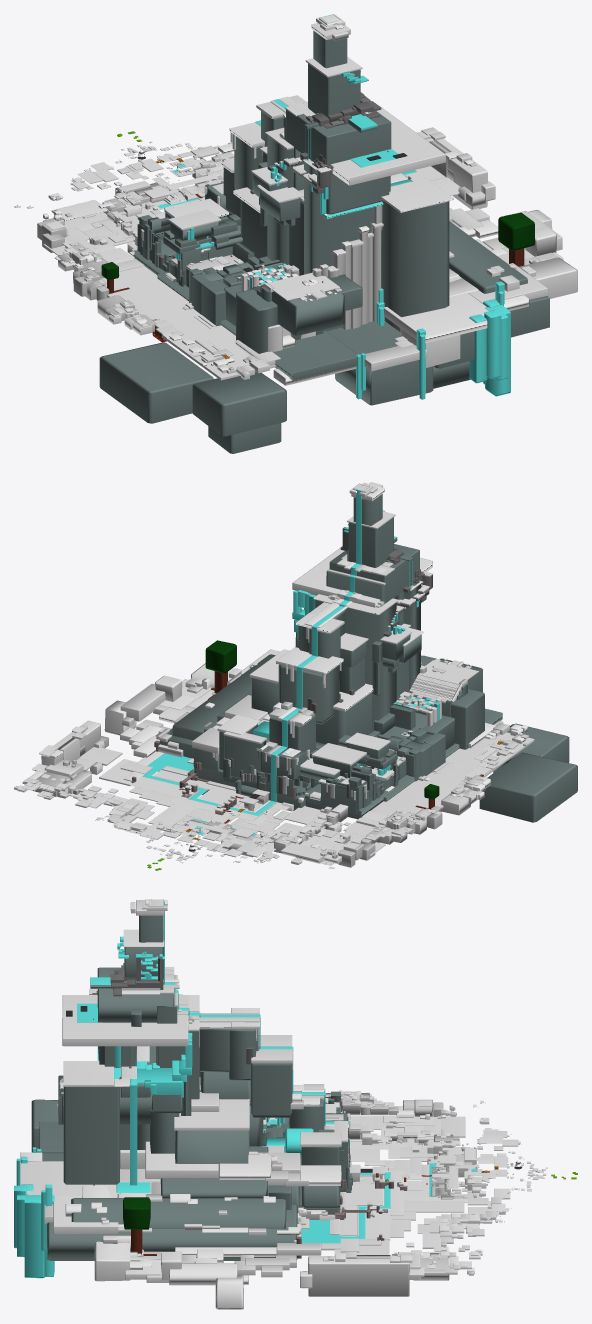
Rendered from Level7NoCollidersCombinedFinal2.fbx.
3 views of the same model, one above another, from view 1: azimuth 30°, elevation 25°; view 2: azimuth 150°, elevation 25°; view 3: azimuth 270°, elevation 25° (orthographic). The views are drawn at different scales.
Parts seen in each view (by area): view 1: polySurface732, polySurface1250, polySurface963, polySurface1788, polySurface205, polySurface47, polySurface1530, polySurface1782, polySurface765, polySurface2147, polySurface2268; view 2: polySurface732, polySurface963, polySurface510, polySurface1788, polySurface205, polySurface1530, polySurface765, polySurface2268, polySurface1782, polySurface2147, polySurface47, polySurface1250; view 3: polySurface732, polySurface963, polySurface510, polySurface1530, polySurface765, polySurface1250, polySurface1788, polySurface1782, polySurface2147, polySurface2268, polySurface47.
Part boxes in pixels (<box>): polySurface732: <box>221,14,453,385</box>; polySurface1250: <box>157,273,529,405</box>; polySurface963: <box>134,179,549,337</box>; polySurface1788: <box>42,211,275,380</box>; polySurface205: <box>96,262,233,423</box>; polySurface47: <box>192,352,286,453</box>; polySurface1530: <box>449,208,577,298</box>; polySurface1782: <box>14,162,167,240</box>; polySurface765: <box>415,127,495,209</box>; polySurface2147: <box>126,151,230,209</box>; polySurface2268: <box>110,131,234,174</box>; polySurface732: <box>249,482,503,761</box>; polySurface963: <box>154,649,445,819</box>; polySurface510: <box>99,489,361,832</box>; polySurface1788: <box>274,732,534,860</box>; polySurface205: <box>415,744,577,822</box>; polySurface1530: <box>104,640,236,757</box>; polySurface765: <box>14,720,122,799</box>; polySurface2268: <box>57,771,228,870</box>; polySurface1782: <box>224,826,364,868</box>; polySurface2147: <box>146,802,258,850</box>; polySurface47: <box>485,723,569,772</box>; polySurface1250: <box>383,708,502,801</box>; polySurface732: <box>58,899,325,1185</box>; polySurface963: <box>47,1091,352,1260</box>; polySurface510: <box>163,901,422,1255</box>; polySurface1530: <box>94,1197,321,1309</box>; polySurface765: <box>300,1249,482,1296</box>; polySurface1250: <box>14,1121,93,1278</box>; polySurface1788: <box>325,1090,431,1158</box>; polySurface1782: <box>400,1099,521,1166</box>; polySurface2147: <box>404,1154,496,1212</box>; polySurface2268: <box>398,1151,577,1257</box>; polySurface47: <box>31,1099,58,1152</box>.
Bounding box in the file's own units: 414 × 294 × 460.
